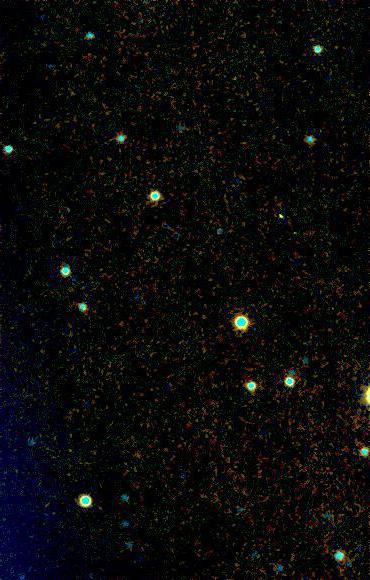star: (266, 199, 296, 229)
